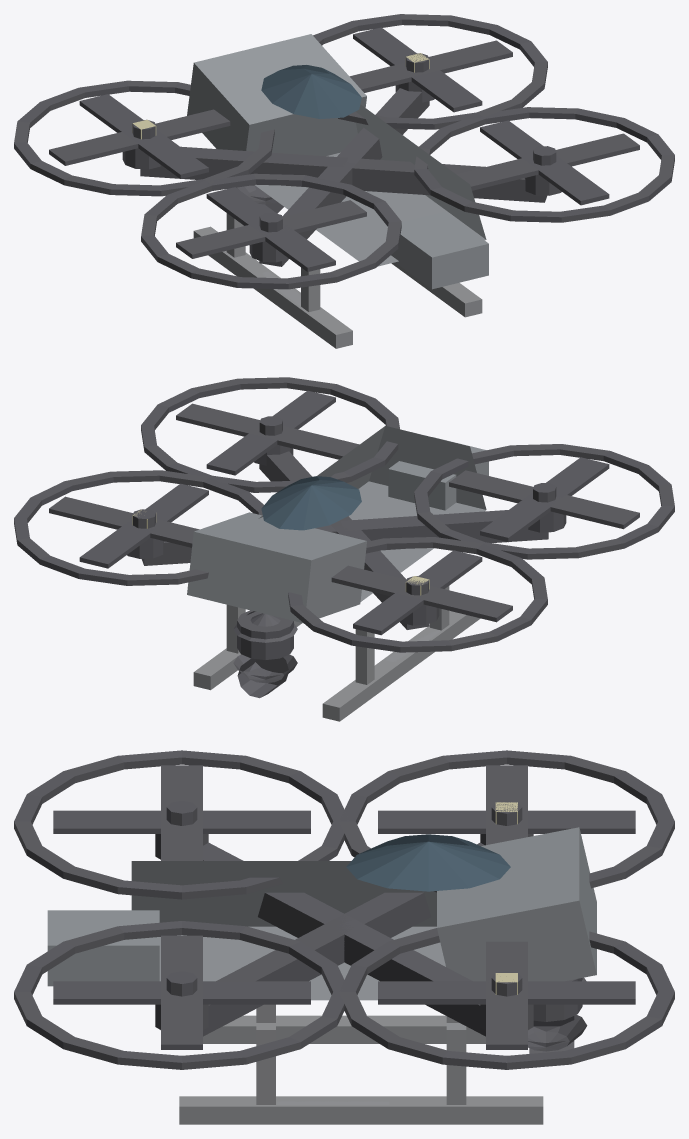
The model's file is chinese_drone.glb.
3 views of the same model, one above another, from view 1: azimuth 30°, elevation 25°; view 2: azimuth 150°, elevation 25°; view 3: azimuth 270°, elevation 25° (orthographic). The views are drawn at different scales.
Visible parts, largest first — view 1: Fuselage, radar_rl, radar_rr, radar_fl, radar_fr, Booms, Skid_l, Canopy, Skid_r, Camera; view 2: Fuselage, radar_rl, radar_fl, radar_rr, radar_fr, Booms, Skid_l, Camera, Canopy, Skid_r; view 3: Fuselage, radar_rr, radar_rl, radar_fr, radar_fl, Booms, Skid_r, Canopy, Skid_l, Camera.
Boxes of the visible parts, left/top/right/bottom form: Fuselage: left=187, top=34, right=488, bottom=289; radar_rl: left=141, top=173, right=401, bottom=289; radar_rr: left=414, top=107, right=674, bottom=222; radar_fl: left=14, top=80, right=274, bottom=196; radar_fr: left=313, top=14, right=547, bottom=129; Booms: left=140, top=88, right=546, bottom=266; Skid_l: left=193, top=213, right=352, bottom=348; Canopy: left=261, top=65, right=361, bottom=118; Skid_r: left=391, top=262, right=482, bottom=317; Camera: left=236, top=185, right=283, bottom=213; Fuselage: left=187, top=426, right=488, bottom=623; radar_rl: left=414, top=444, right=674, bottom=559; radar_fl: left=288, top=537, right=547, bottom=652; radar_rr: left=141, top=377, right=399, bottom=492; radar_fr: left=14, top=470, right=263, bottom=585; Booms: left=141, top=451, right=548, bottom=629; Skid_l: left=322, top=586, right=480, bottom=721; Camera: left=233, top=610, right=297, bottom=698; Canopy: left=261, top=476, right=361, bottom=530; Skid_r: left=193, top=604, right=301, bottom=690; Fuselage: left=47, top=827, right=596, bottom=1000; radar_rr: left=14, top=921, right=349, bottom=1069; radar_rl: left=14, top=750, right=349, bottom=899; radar_fr: left=339, top=928, right=674, bottom=1069; radar_fl: left=339, top=750, right=674, bottom=892; Booms: left=203, top=842, right=485, bottom=1036; Skid_r: left=179, top=1023, right=543, bottom=1124; Canopy: left=346, top=834, right=510, bottom=891; Skid_l: left=203, top=1004, right=485, bottom=1043; Camera: left=528, top=977, right=587, bottom=1053.
Size of the model in its own units: 2.64 by 0.935 by 2.36.
